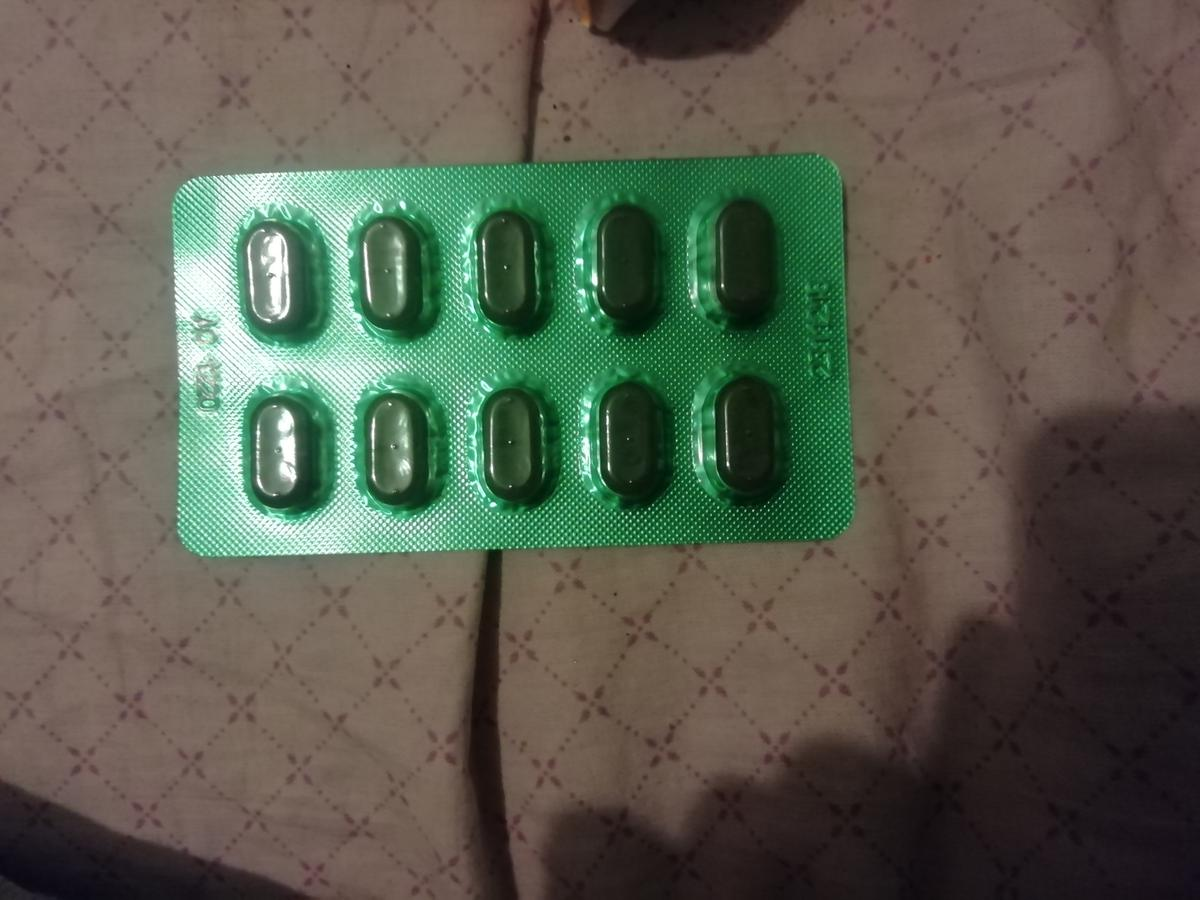tablet: (463, 206, 546, 330), (474, 380, 550, 504), (706, 195, 779, 323), (237, 217, 311, 340), (594, 382, 667, 502), (354, 212, 423, 336), (358, 391, 433, 505), (714, 381, 783, 500), (242, 396, 315, 506), (597, 206, 659, 326)
